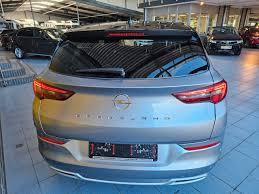opel: (113, 89, 133, 111)
